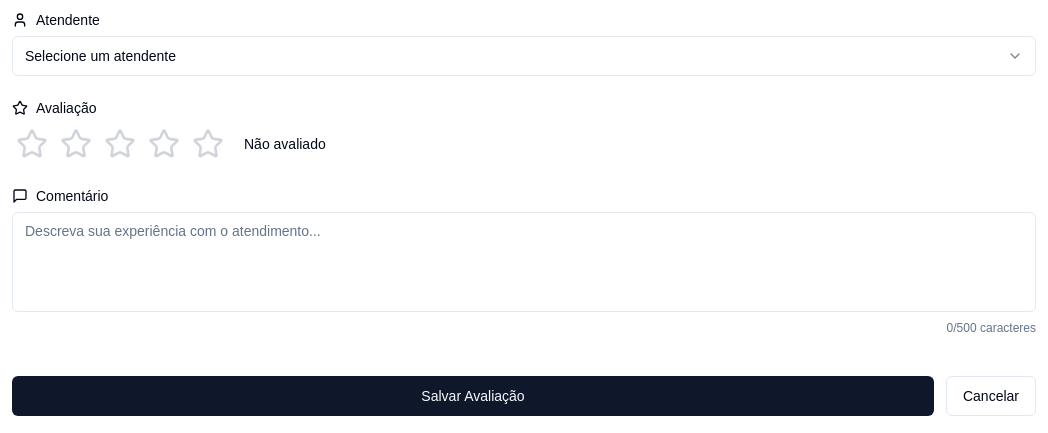
Test case: EvaluationForm › deve mostrar lista de atendentes no select
Click the dropdown at coordinates (100, 56), box [12, 36, 1036, 76]
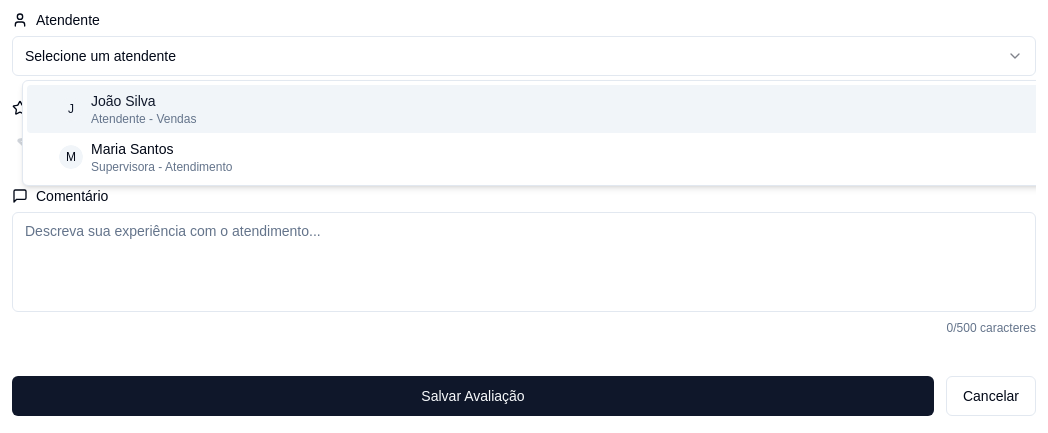
Expected: the text "João Silva" is shown, [91, 93, 156, 109]
Expected: the text "Maria Santos" is shown, [91, 141, 174, 157]
